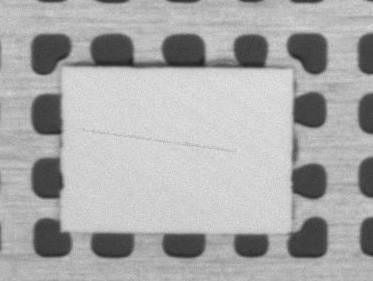DIE_CRACK: (110, 98, 311, 114)
